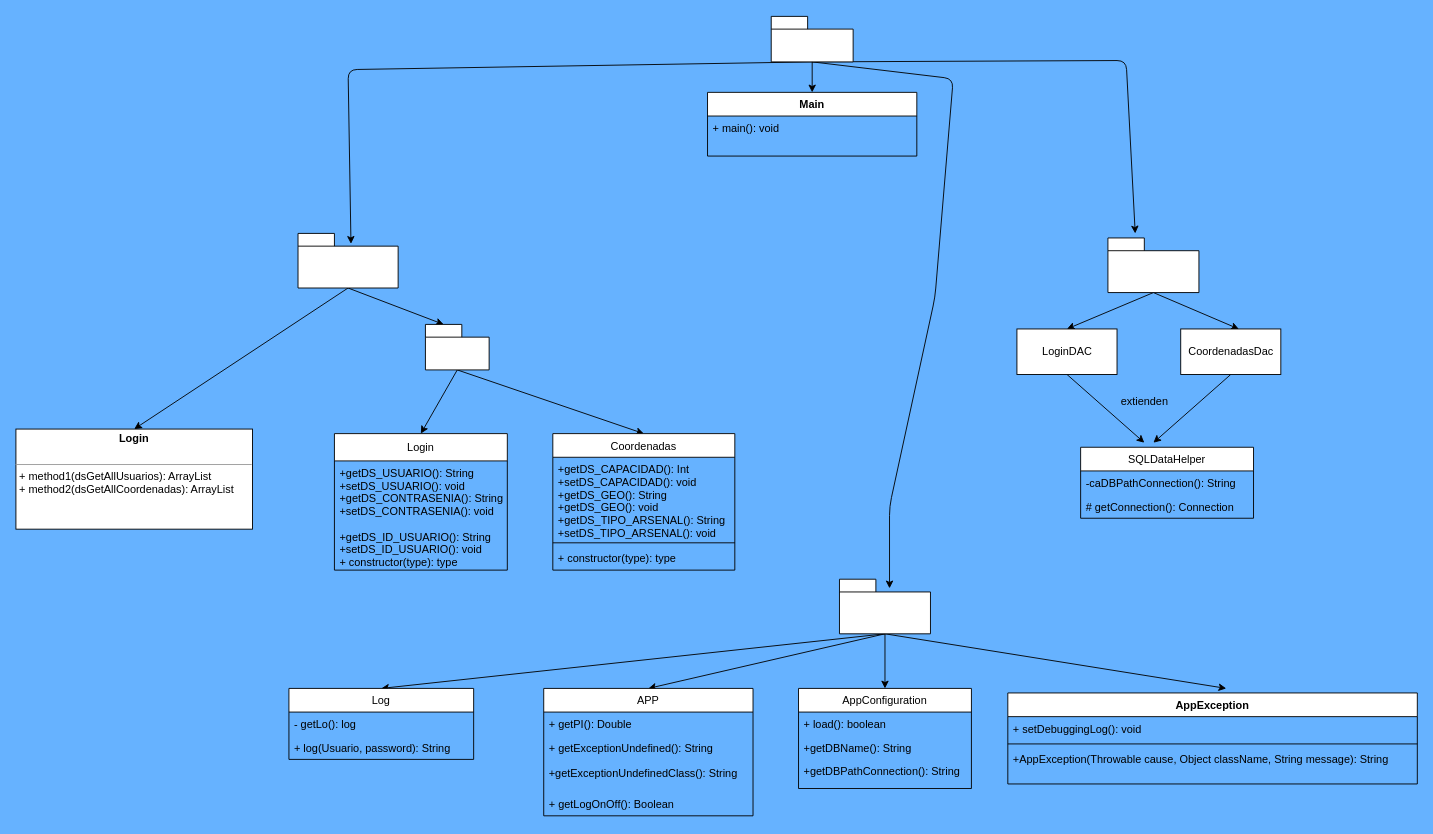
This 1433x834 diagram has some shape labels left out. Each missing label, with the centre of its shape:
BusinessLogic: the point at 347,260
DataAccess: the point at 1153,265
Entities: the point at 457,347
Examen: the point at 811,38
Framework: the point at 884,606
